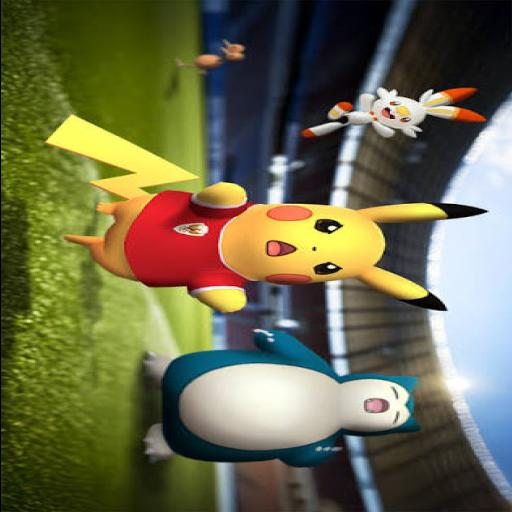Pikachu: (44, 114, 491, 315)
